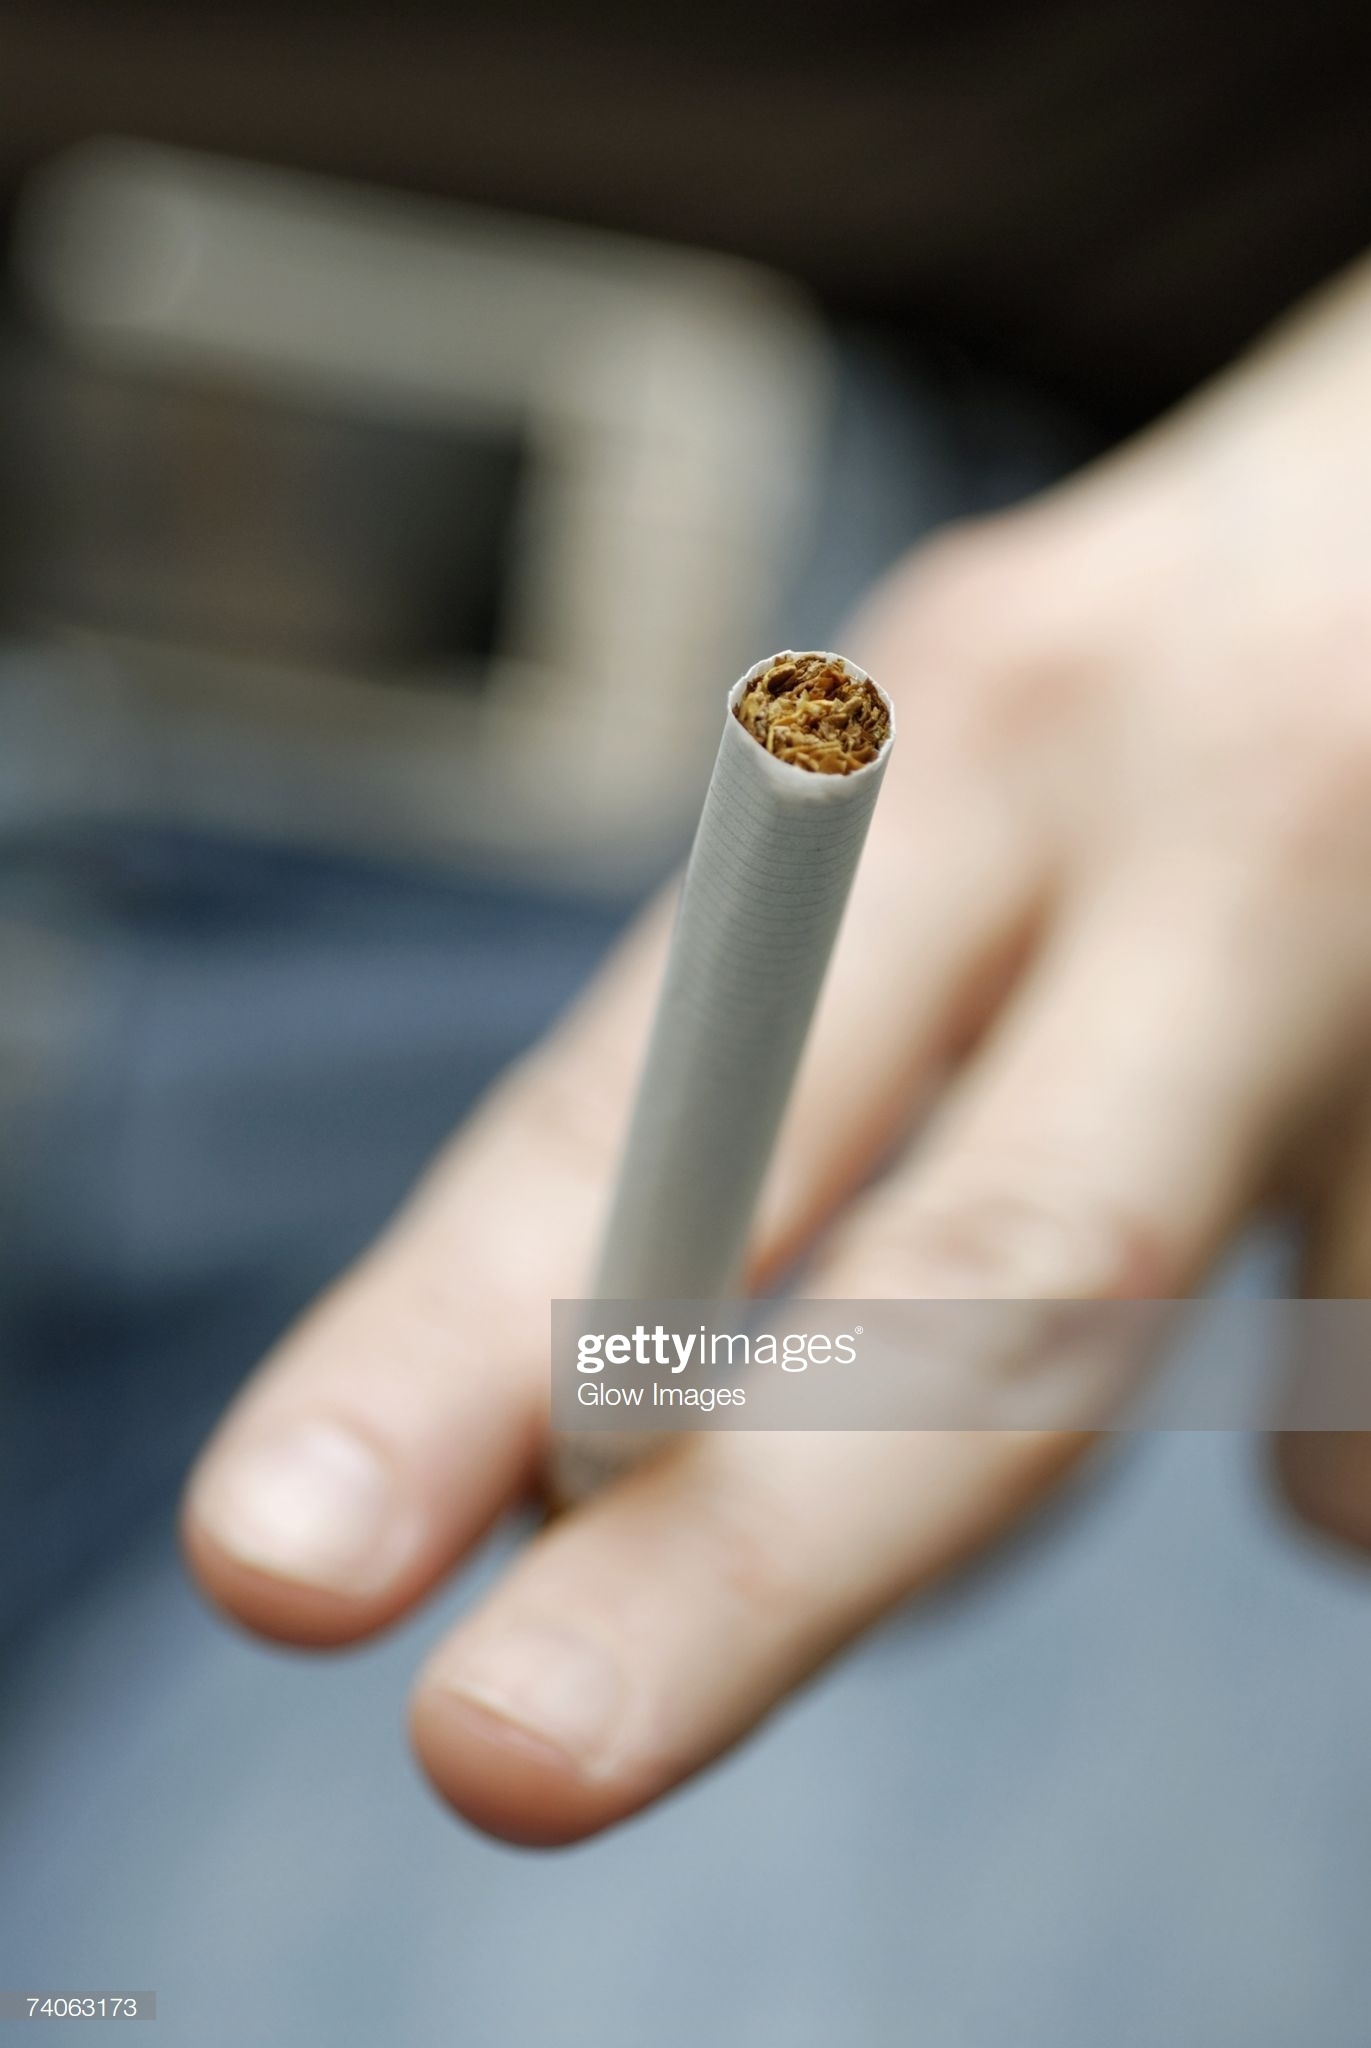sigaretta: (552, 645, 897, 1491)
